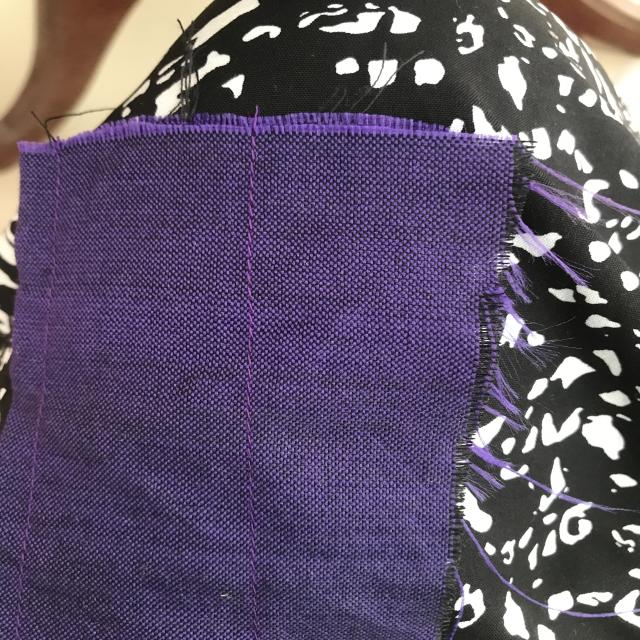good: (236, 192, 264, 335), (244, 497, 262, 595)
